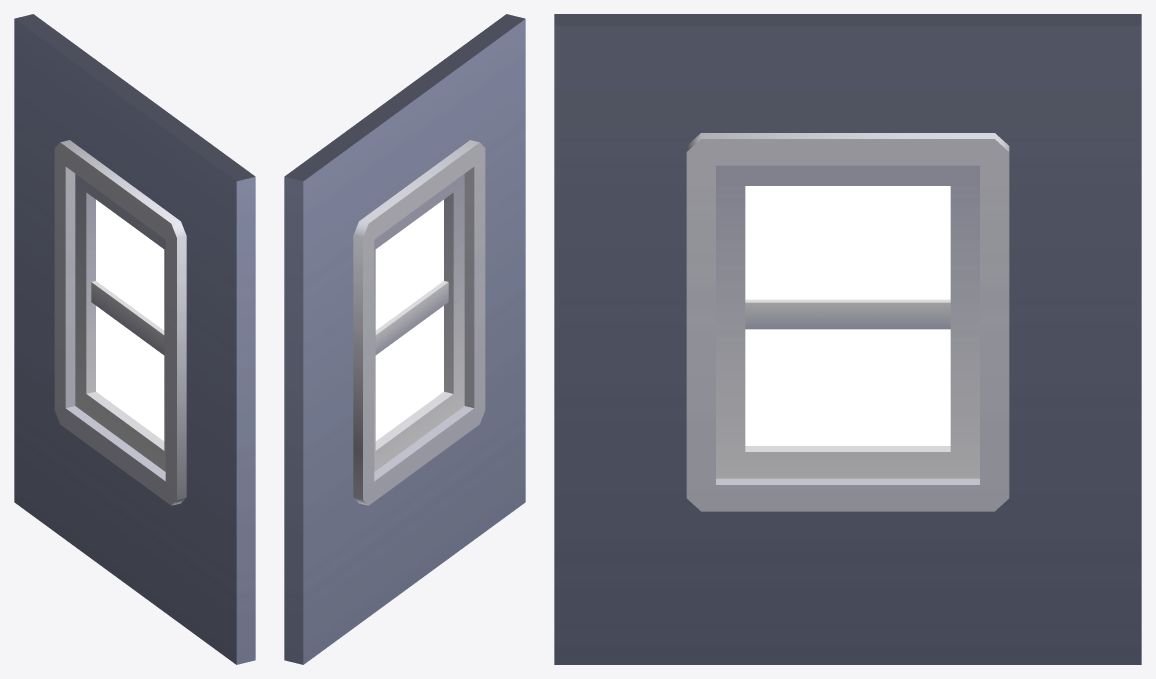
File: part_wall_window_square_detailed.fbx
The picture shows the model from 3 angles, left to right: view 1: azimuth 30°, elevation 25°; view 2: azimuth 150°, elevation 25°; view 3: azimuth 270°, elevation 25°; orthographic projection. The views are drawn at different scales.
Visible parts, largest first — view 1: wall-window-square-detailed, (%ignore); view 2: wall-window-square-detailed, (%ignore); view 3: wall-window-square-detailed, (%ignore).
Boxes of the visible parts, x1,y1,x2,y2 form: wall-window-square-detailed: [14, 14, 255, 664]; (%ignore): [96, 199, 164, 440]; wall-window-square-detailed: [284, 14, 525, 664]; (%ignore): [375, 199, 443, 440]; wall-window-square-detailed: [554, 14, 1141, 664]; (%ignore): [745, 186, 950, 445].
Bounding box in the file's own units: 20 × 240 × 200.
Materials: 2 (1 with a texture image).
